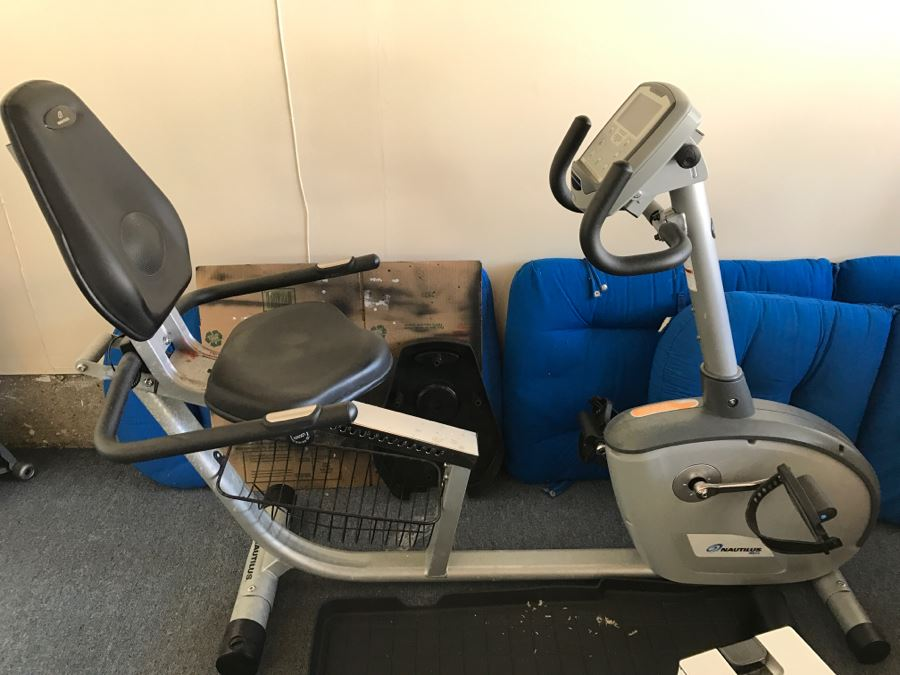gym_bike: (7, 76, 889, 651)
